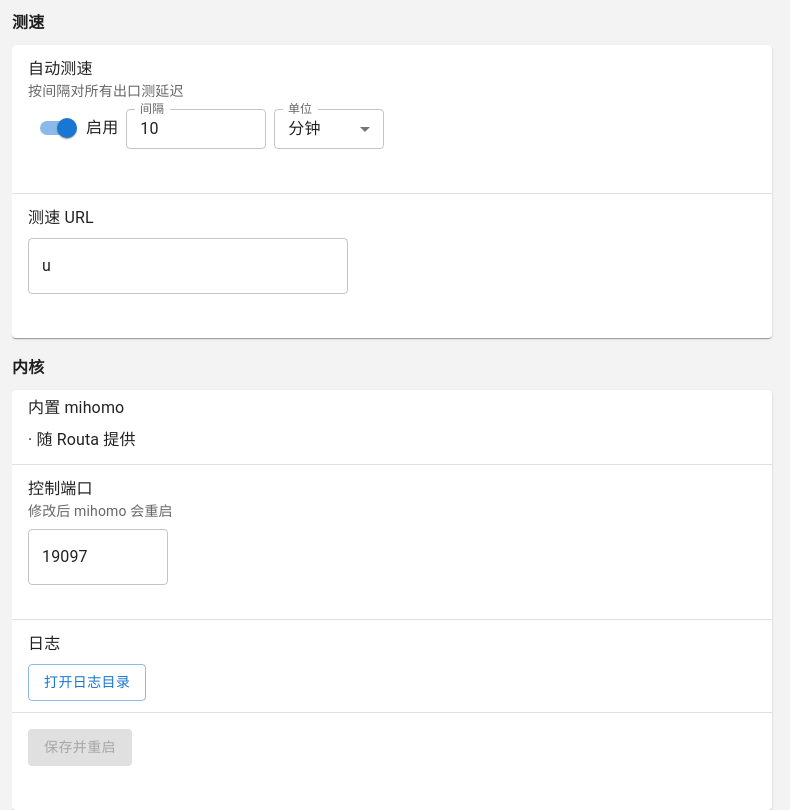
Test: Settings › reports the actual apply result after a port change, without restarting itself
(page scrolled)
Replace the text in the number field named "控制端口" with "19100": x=98, y=557 [28,529,168,585]
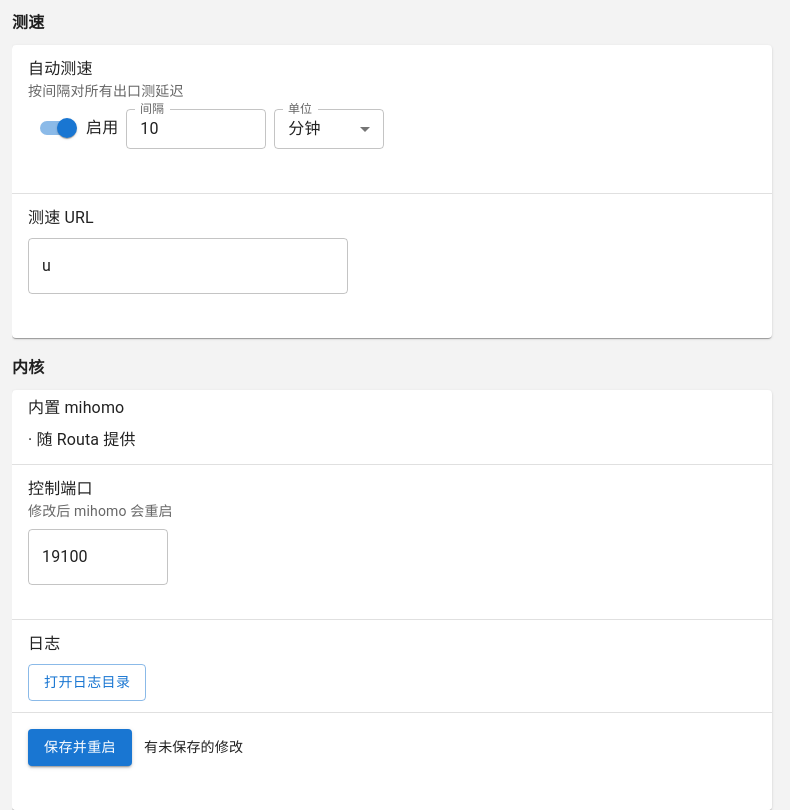
Click the button "保存并重启": x=80, y=747 [28,729,132,766]
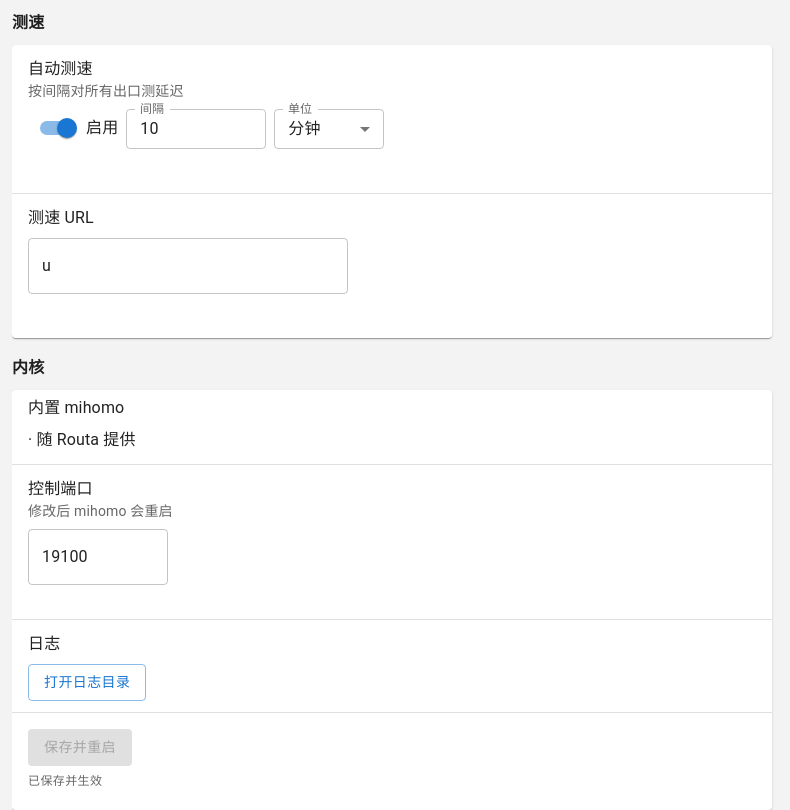
Result: the text "已保存并生效" is shown at [28,772,102,792]
